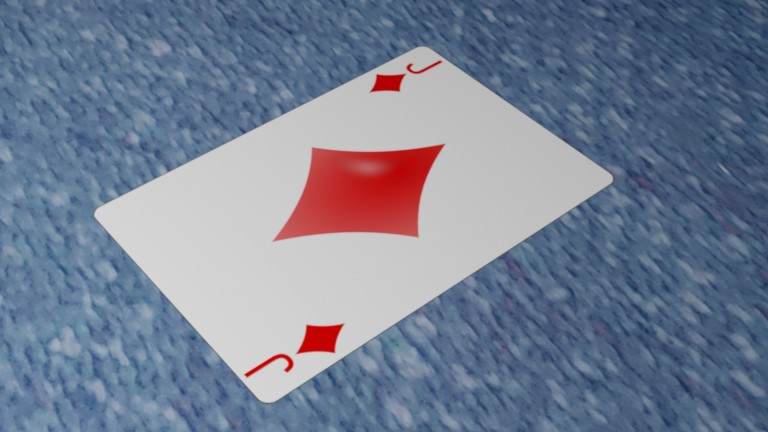jack_of_diamonds: (94, 121, 146, 160), (141, 19, 181, 42)
